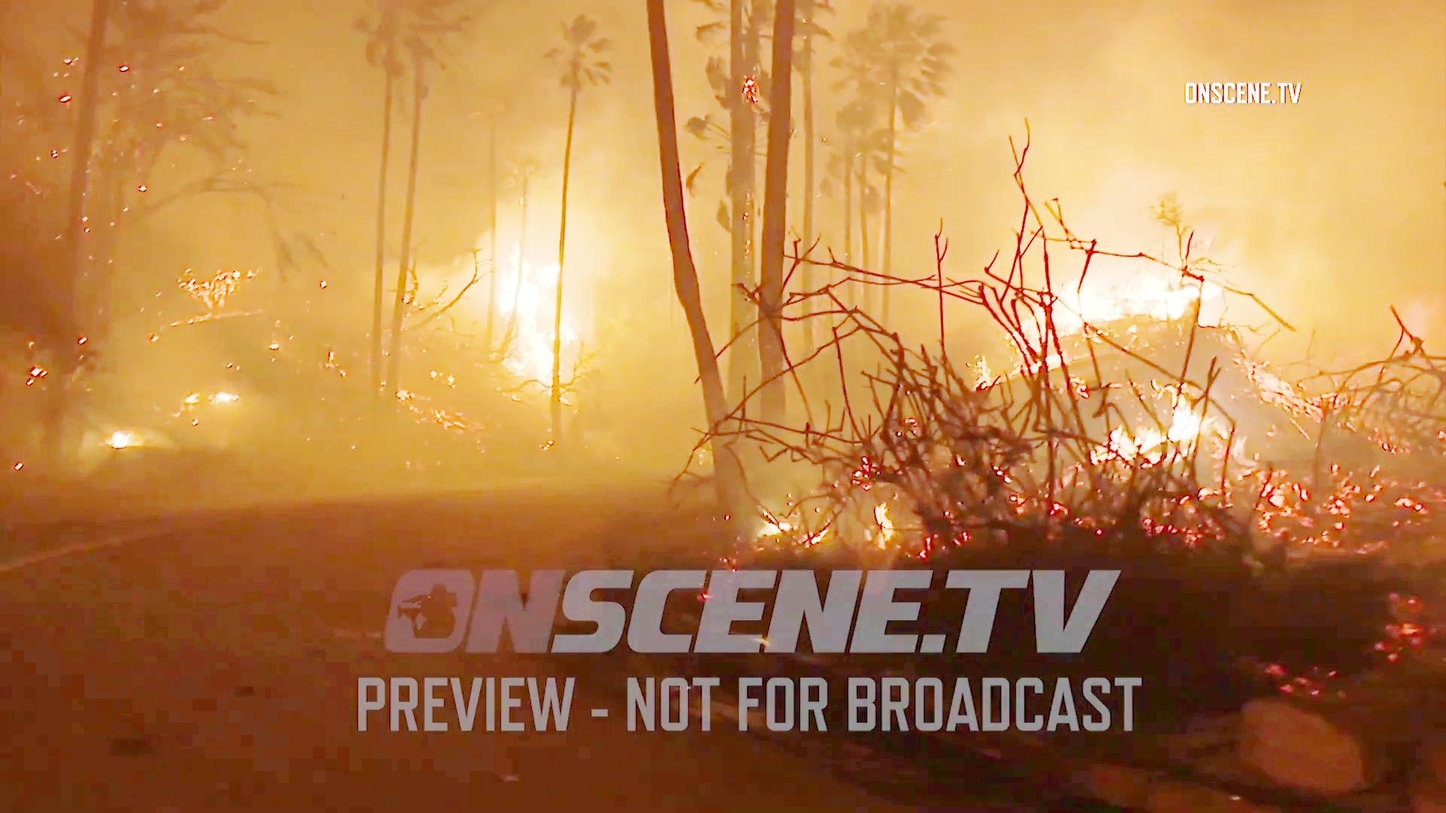fire: (1043, 243, 1207, 330), (494, 243, 579, 386)
